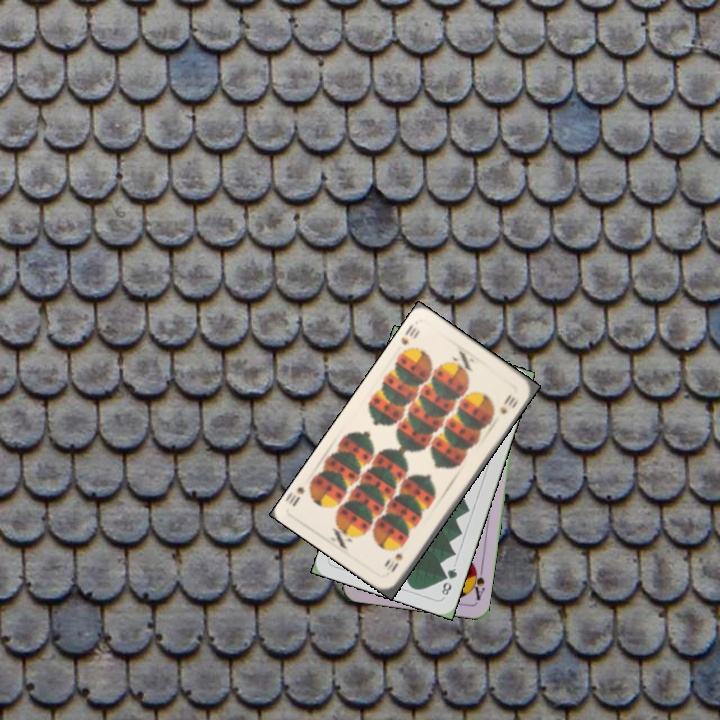G8: (438, 564, 460, 598)
S10: (397, 321, 423, 347), (383, 549, 405, 576)
SA: (467, 563, 487, 603)
